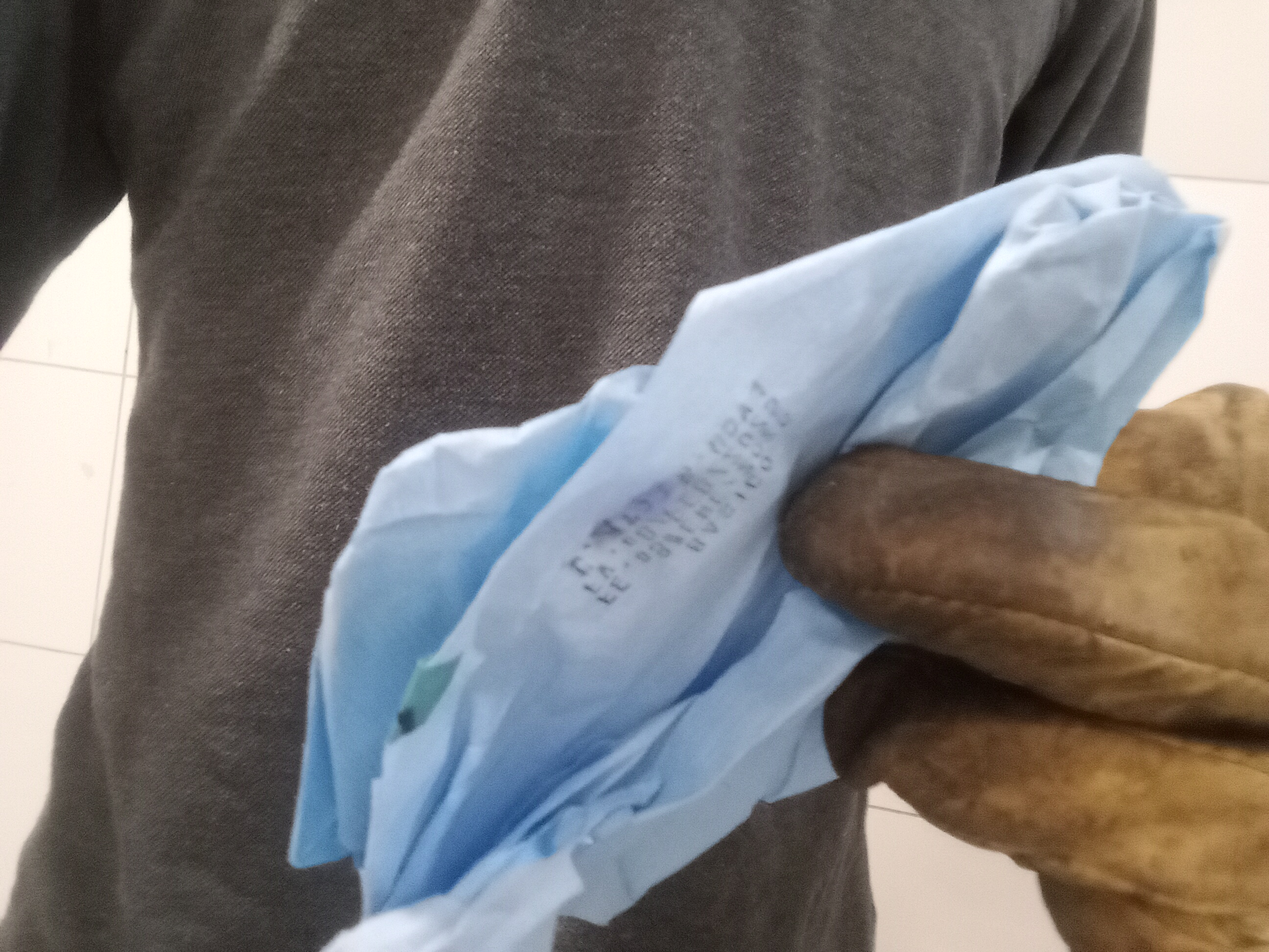Papel: (288, 153, 1231, 952)
